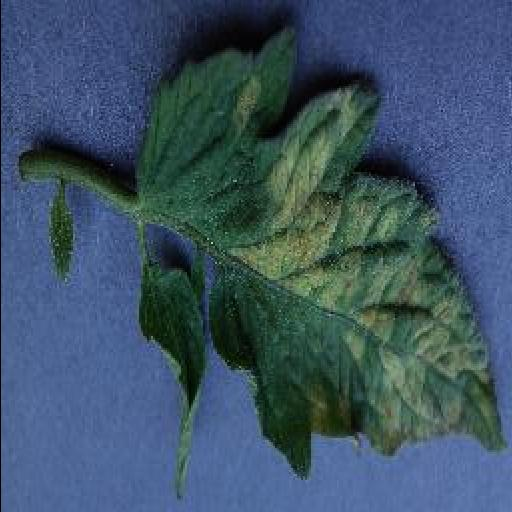disease_tomato: (130, 24, 504, 478)
